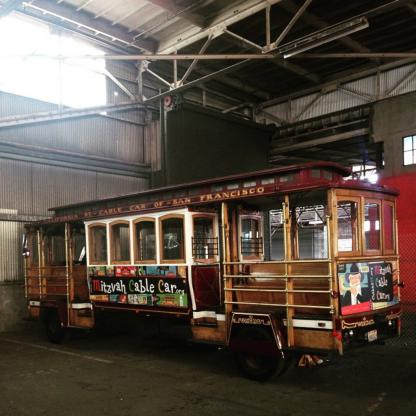Bus: (21, 161, 400, 380)
